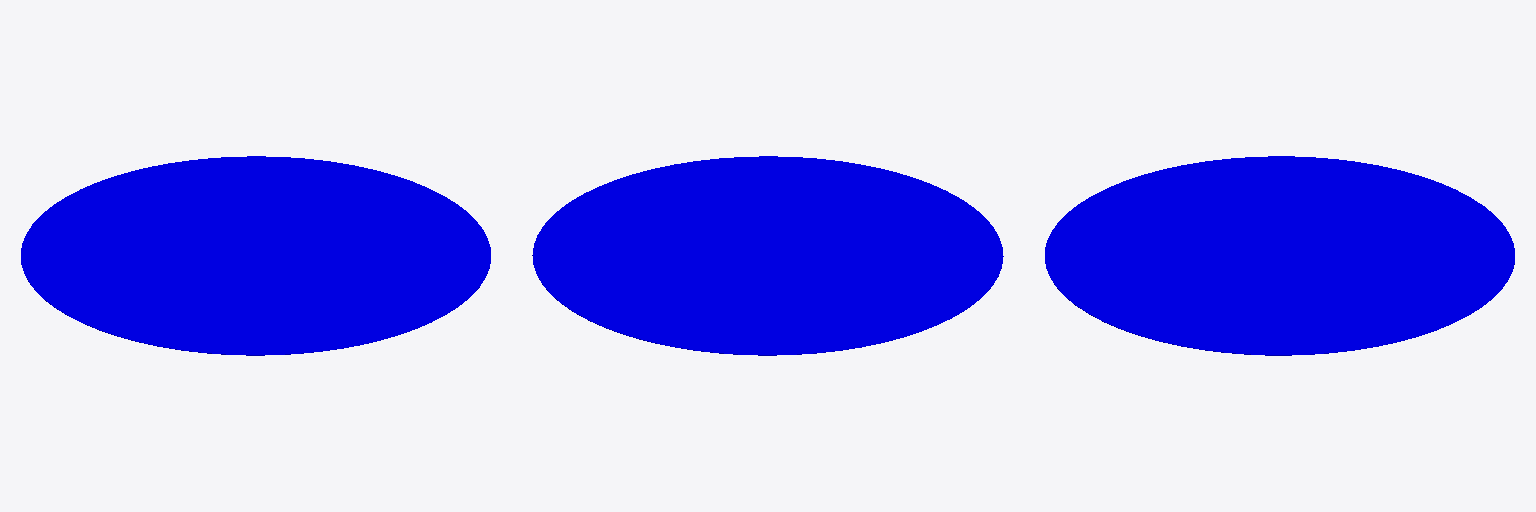
The model's file is platform.obj.
3 views of the same model, side by side, from view 1: azimuth 30°, elevation 25°; view 2: azimuth 150°, elevation 25°; view 3: azimuth 270°, elevation 25° (orthographic).
Visible parts, largest first — view 1: object_1; view 2: object_1; view 3: object_1.
Boxes of the visible parts, x1=… form: object_1: x1=21, y1=156, x2=490, y2=355; object_1: x1=532, y1=156, x2=1003, y2=355; object_1: x1=1045, y1=156, x2=1514, y2=355.
Bounding box in the file's own units: 25334 × 20 × 25334.